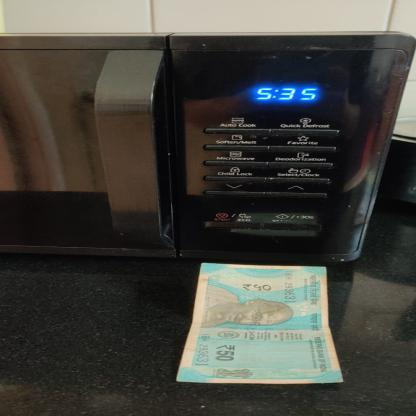New50Front: (172, 260, 347, 386)
